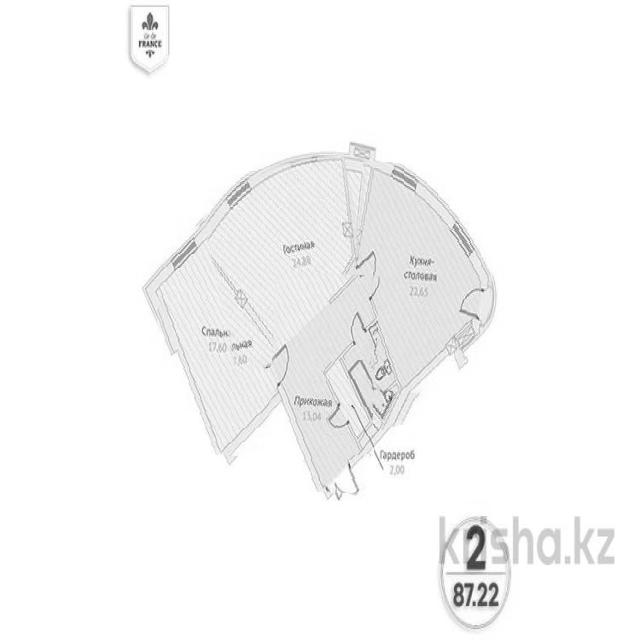bathroom: (339, 319, 412, 429)
hallway: (273, 275, 379, 492)
kitchen: (353, 162, 490, 394)
living_room: (205, 155, 355, 361), (160, 227, 277, 455)
other: (325, 360, 374, 455)
